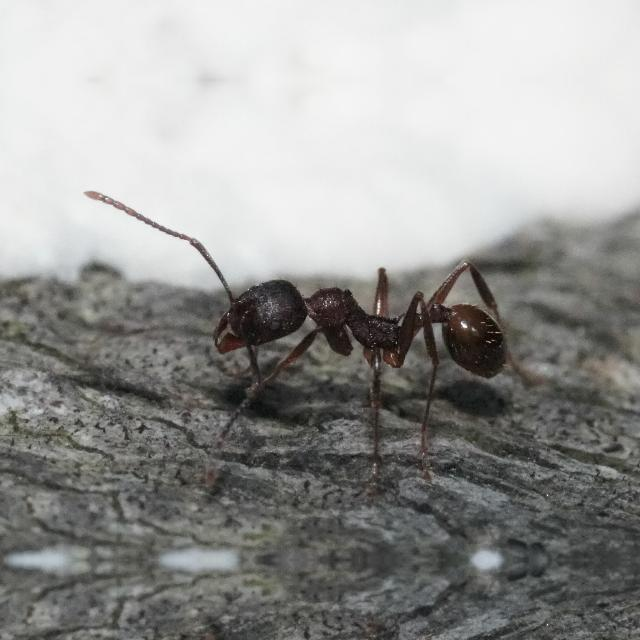Apheanogaster: (169, 238, 537, 406)
